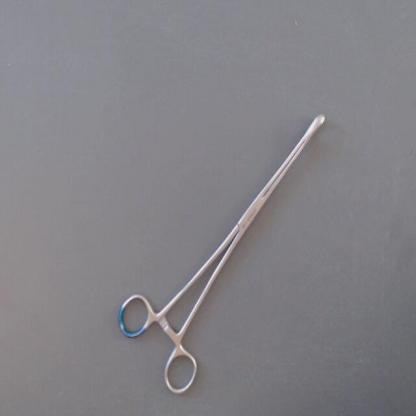Sponge Forceps: (110, 104, 334, 402)
